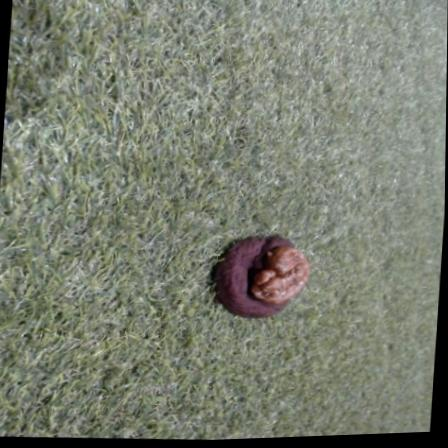dog-poop: (210, 227, 317, 326)
